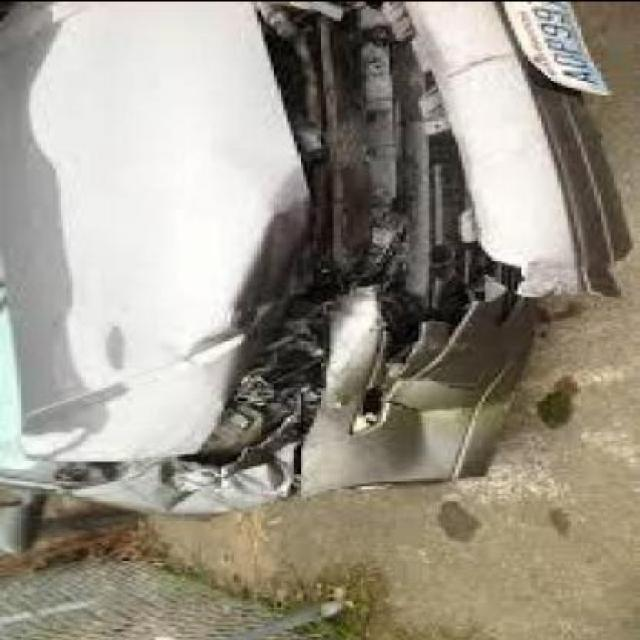damage: (20, 1, 634, 514)
